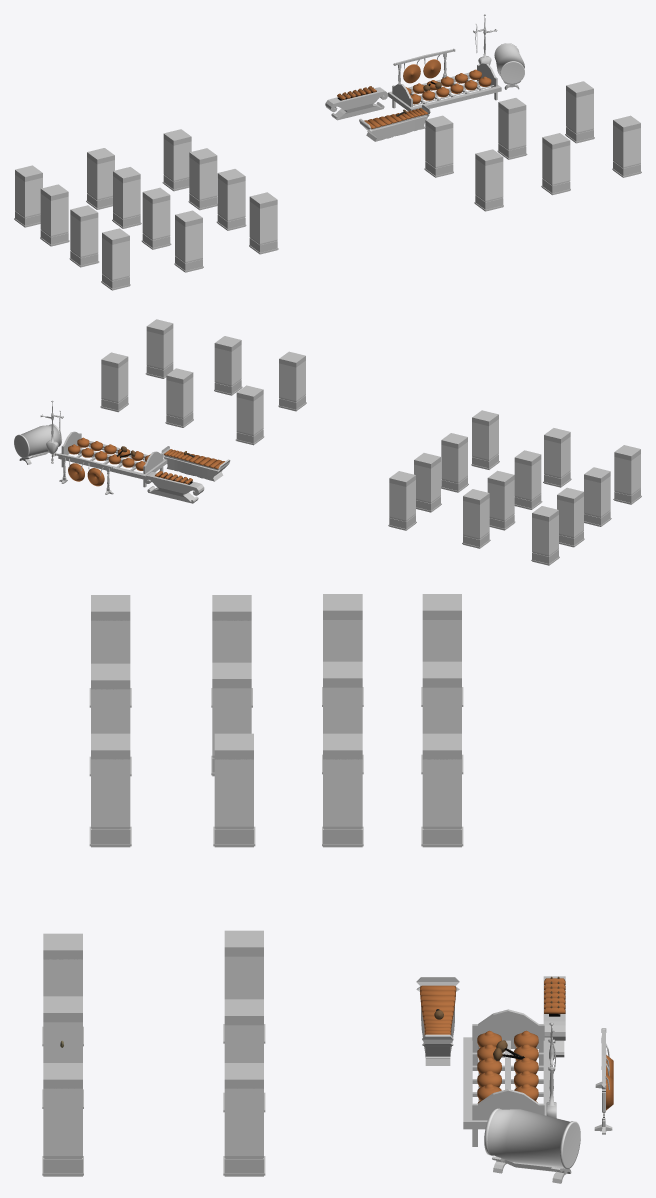
The model's file is barang museum.fbx.
The picture shows the model from 3 angles, top to bottom: view 1: azimuth 30°, elevation 25°; view 2: azimuth 150°, elevation 25°; view 3: azimuth 270°, elevation 25°; orthographic projection. The views are drawn at different scales.
Visible parts, largest first — view 1: Circle.008, Cube.036, Cube.089, Cube.093, Cube.046, Cube.065, Cube.069, Cube.073, Cube.107, Cube.053, Cube.101, Cube.077 (+13 smaller); view 2: Circle.008, Circle.005, Cube.036, Cube.069, Cube.077, Cube.057, Cube.061, Cube.053, Cube.065, Cube.089, Cube.115, Cube.085 (+13 smaller); view 3: Circle.005, Cube.038, Circle.008, Cube.073, Cube.093, Cube.107, Cube.057, Cube.061, Cube.115, Cube.077, Cube.097, Cube.111 (+37 smaller).
Part boxes in pixels (x1,y1,x2,y2): Circle.008: [406, 69, 491, 104]; Cube.036: [325, 87, 388, 120]; Cube.089: [70, 214, 98, 256]; Cube.093: [217, 178, 245, 220]; Cube.046: [475, 159, 503, 200]; Cube.065: [425, 125, 453, 166]; Cube.069: [498, 107, 526, 149]; Cube.073: [249, 201, 277, 243]; Cube.107: [189, 157, 217, 199]; Cube.053: [542, 142, 570, 184]; Cube.101: [40, 193, 68, 235]; Cube.077: [142, 197, 170, 238]; Circle.008: [68, 437, 150, 470]; Circle.005: [14, 424, 61, 458]; Cube.036: [144, 472, 204, 503]; Cube.069: [166, 377, 193, 417]; Cube.077: [514, 459, 541, 499]; Cube.057: [146, 328, 173, 368]; Cube.061: [101, 361, 128, 401]; Cube.053: [214, 345, 241, 385]; Cube.065: [236, 394, 263, 434]; Cube.089: [584, 476, 610, 516]; Cube.115: [389, 480, 415, 520]; Cube.085: [614, 454, 640, 494]; Circle.005: [484, 1108, 580, 1168]; Cube.038: [472, 1009, 544, 1146]; Circle.008: [477, 1030, 538, 1103]; Cube.073: [91, 759, 130, 826]; Cube.093: [214, 759, 253, 826]; Cube.107: [323, 759, 362, 826]; Cube.057: [43, 1088, 82, 1155]; Cube.061: [224, 1088, 263, 1155]; Cube.115: [422, 759, 461, 826]; Cube.077: [212, 688, 251, 755]; Cube.097: [323, 687, 362, 733]; Cube.111: [422, 687, 461, 733].
Size of the model in its own units: 1731 by 214 by 839.
